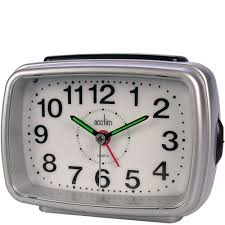alarm_clock: (4, 52, 223, 221), (4, 59, 223, 221)
